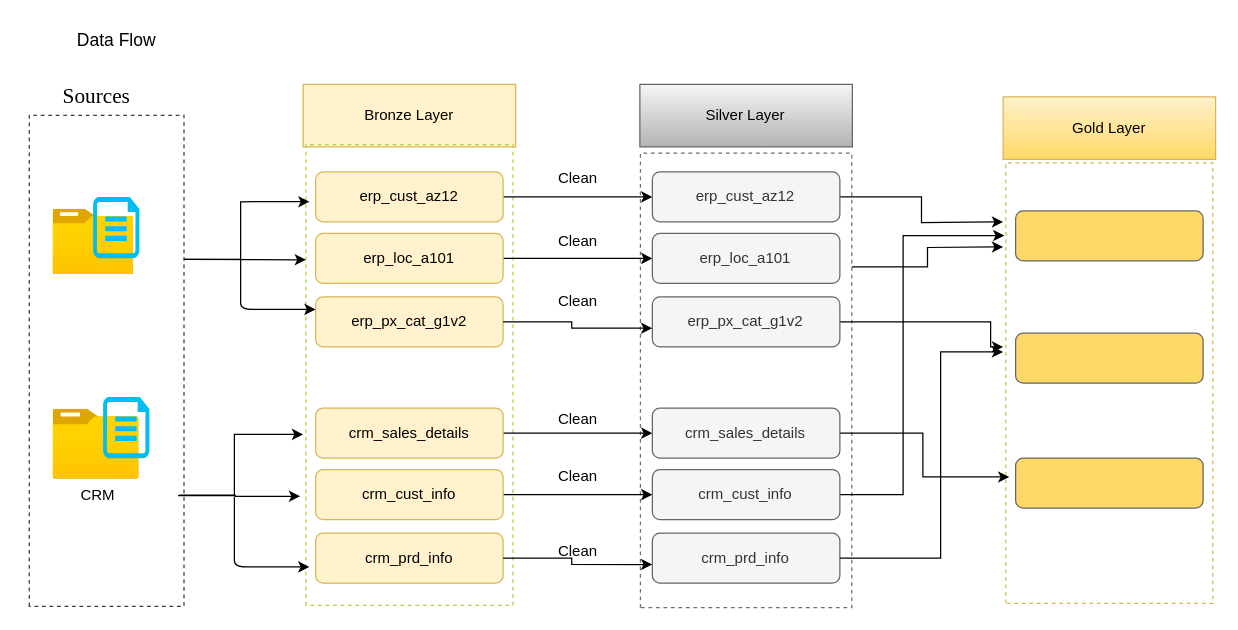
Some shapes in this 1238 by 630 pixel diagram are drawn without their labels. The centre of each missing label's shape, as x and y in pixels:
dim.Customer: the point at 1108,235
dim.Product: the point at 1108,357
ERP: the point at 106,360
Fact_sales: the point at 1108,482
